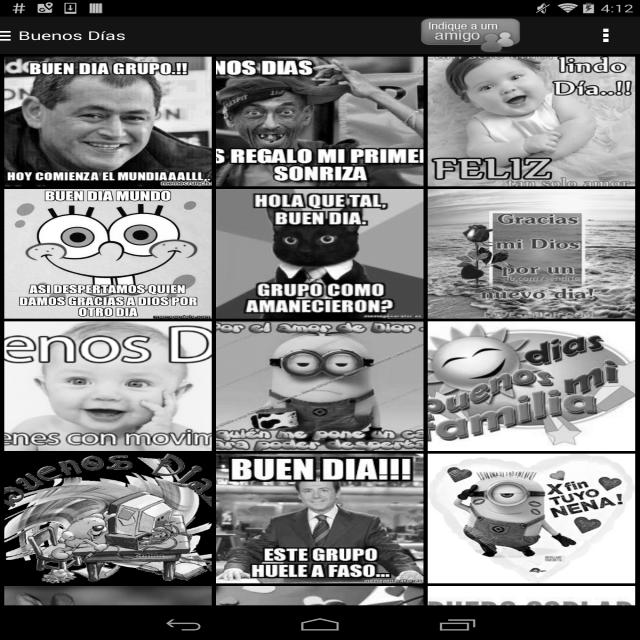ImageButton: (595, 23, 617, 48)
ImageView: (16, 61, 628, 589)
